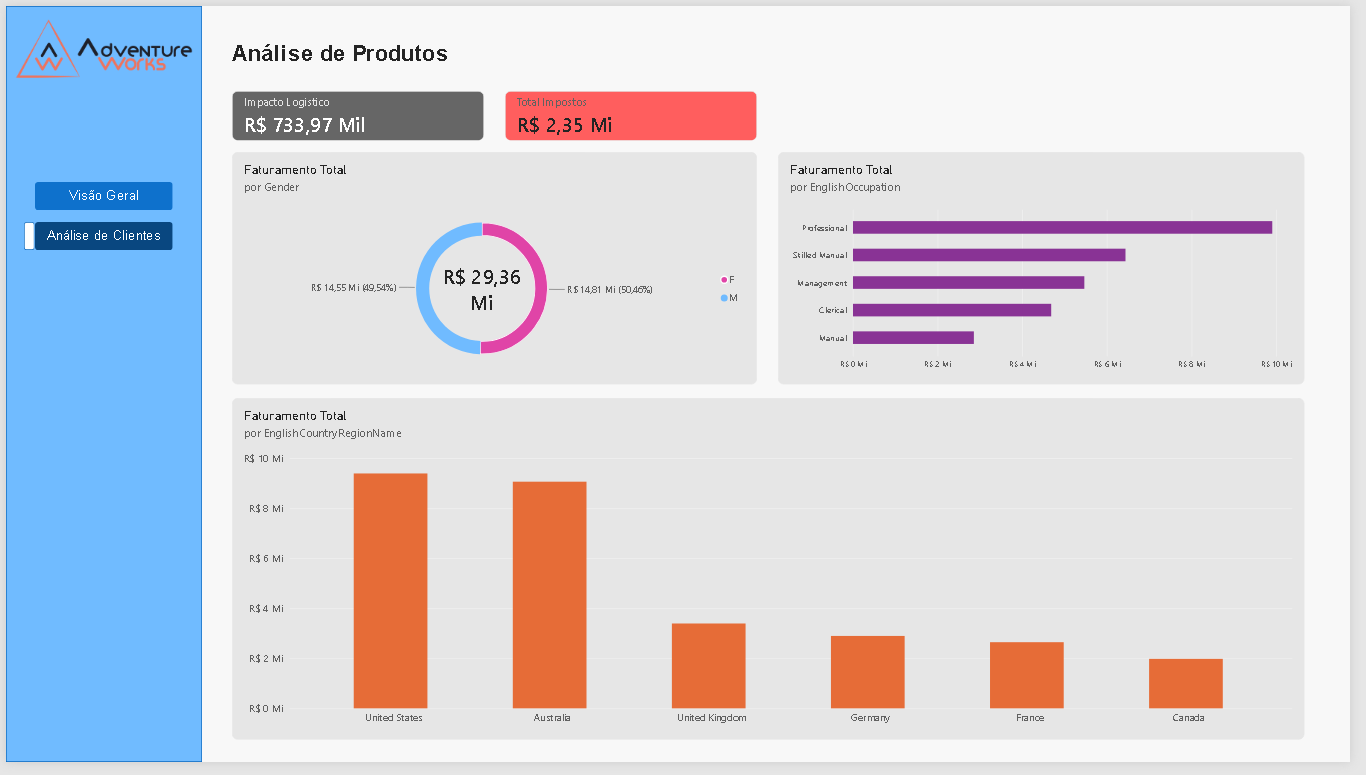

What the dashboard file says about the page in this screenshot:
{"tool":"powerbi","page":{"name":"Análise de Clientes","canvas":[1920,1080],"ordinal":1},"visuals":[{"type":"shape","box":[0,0,280,1080],"z":0},{"type":"image","box":[0,0,280,122],"z":1000},{"type":"textbox","box":[323.3,48.3,360,40],"z":2000},{"type":"donutChart","title":"Faturamento por Gênero","fields":{"Category":["DimCustomer.Gender"],"Y":["FactInternetSales.Faturamento Total"]},"box":[323.3,208.3,750,331.7],"z":3000},{"type":"cardVisual","fields":{"Data":["FactInternetSales.Clientes Ativos"]},"box":[323.3,121.7,360,71.7],"z":4000},{"type":"cardVisual","fields":{"Data":["FactInternetSales.Total Pedidos"]},"box":[712.5,121.2,360,72],"z":5000},{"type":"cardVisual","fields":{"Data":["FactInternetSales.Ticket Medio"]},"box":[1103.3,121.7,358.3,71.7],"z":6000},{"type":"clusteredColumnChart","title":"Faturamento por País","fields":{"Category":["DimGeography.EnglishCountryRegionName"],"Y":["FactInternetSales.Faturamento Total"]},"box":[323.3,560,1531.7,488.3],"z":7000},{"type":"barChart","title":"Faturamento por Profissão","fields":{"Category":["DimCustomer.EnglishOccupation"],"Y":["FactInternetSales.Faturamento Total"]},"box":[1103.3,208.3,751.7,331.7],"z":8000},{"type":"actionButton","box":[41.7,250.8,196.7,40],"z":9000},{"type":"actionButton","box":[41.7,308.3,196.7,40],"z":10000},{"type":"shape","box":[25,308.5,12,40],"z":11000},{"type":"cardVisual","fields":{"Data":["FactInternetSales.Frequência de Compra"]},"box":[1495.7,121.4,358.6,71.4],"z":12000},{"type":"actionButton","box":[41.7,361.2,196.7,40],"z":12001}]}

Visuals, with their boxes in screenshot pixels (x1, y1, x2, y2), scaled from the page's 1920x1080 canvas onto the 1366x775 screenshot:
shape: pyautogui.locateOnScreen(0, 0, 199, 774)
image: pyautogui.locateOnScreen(0, 0, 199, 88)
textbox: pyautogui.locateOnScreen(230, 35, 486, 63)
"Faturamento por Gênero" donutChart: pyautogui.locateOnScreen(230, 149, 764, 388)
cardVisual - FactInternetSales.Clientes Ativos: pyautogui.locateOnScreen(230, 87, 486, 139)
cardVisual - FactInternetSales.Total Pedidos: pyautogui.locateOnScreen(507, 87, 763, 139)
cardVisual - FactInternetSales.Ticket Medio: pyautogui.locateOnScreen(785, 87, 1040, 139)
"Faturamento por País" clusteredColumnChart: pyautogui.locateOnScreen(230, 402, 1320, 752)
"Faturamento por Profissão" barChart: pyautogui.locateOnScreen(785, 149, 1320, 388)
actionButton: pyautogui.locateOnScreen(30, 180, 170, 209)
actionButton: pyautogui.locateOnScreen(30, 221, 170, 250)
shape: pyautogui.locateOnScreen(18, 221, 26, 250)
cardVisual - FactInternetSales.Frequência de Compra: pyautogui.locateOnScreen(1064, 87, 1319, 138)
actionButton: pyautogui.locateOnScreen(30, 259, 170, 288)
